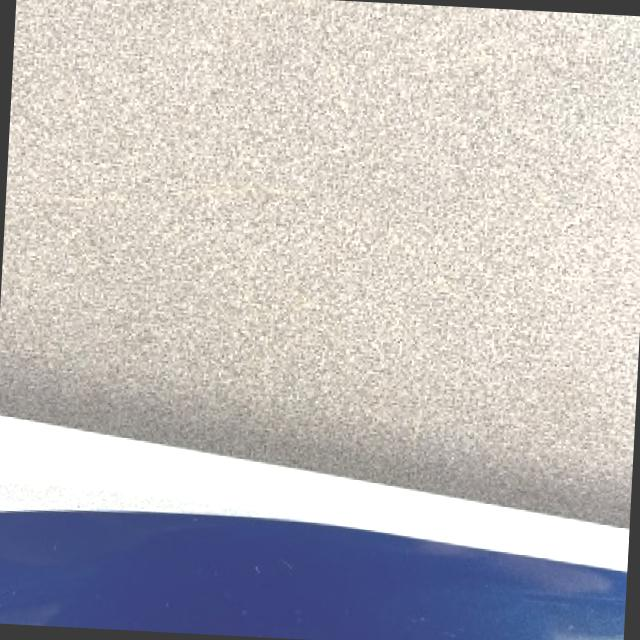healthy: (0, 0, 640, 522), (0, 416, 627, 640)
